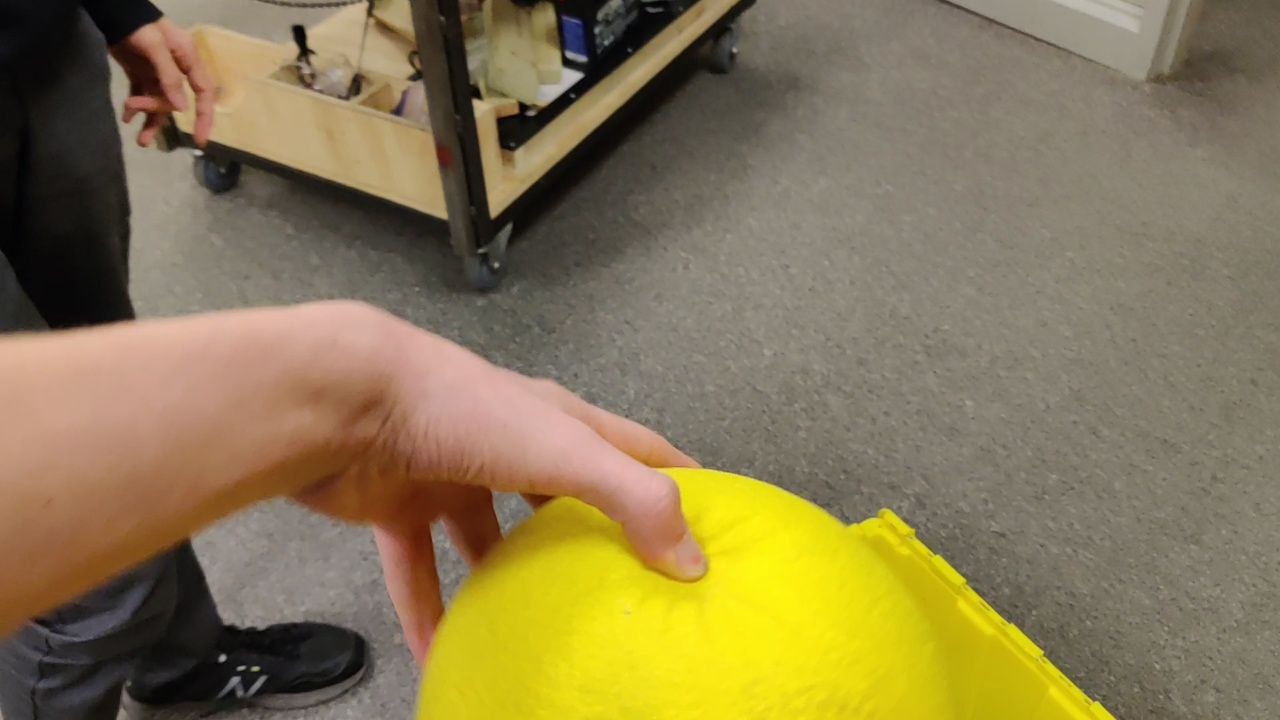Ball: (415, 468, 953, 720)
